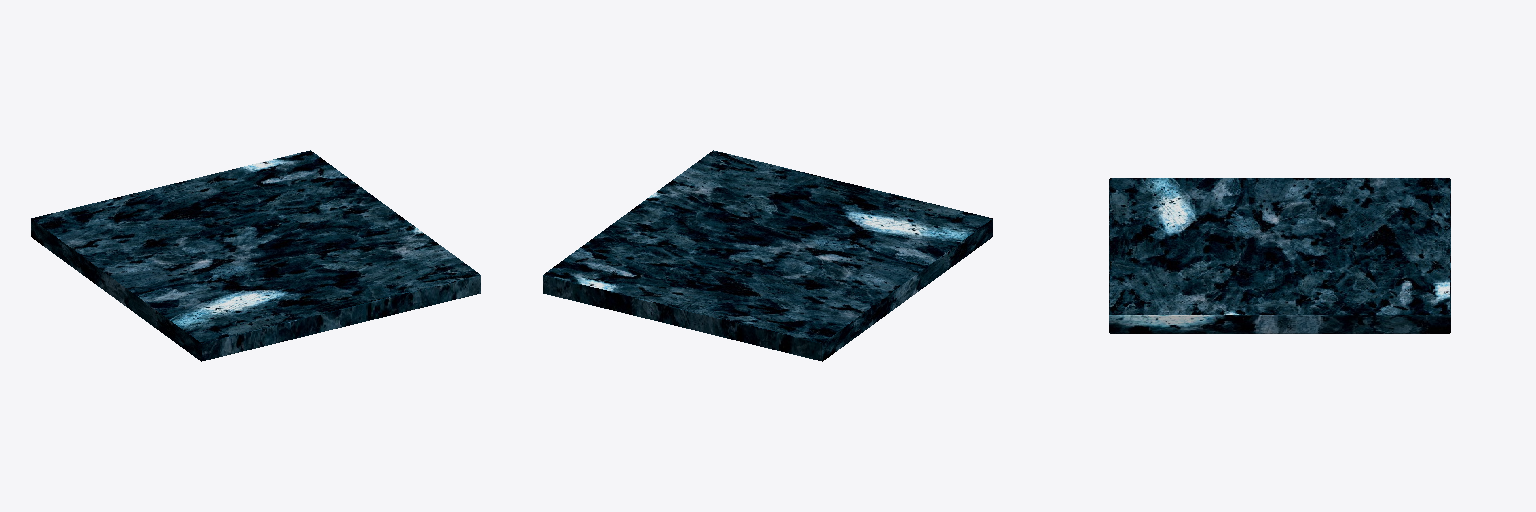
3 renders of one model, left to right at view 1: azimuth 30°, elevation 25°; view 2: azimuth 150°, elevation 25°; view 3: azimuth 270°, elevation 25°, orthographic.
Parts seen in each view (by area): view 1: model_model.074; view 2: model_model.074; view 3: model_model.074.
Boxes of the visible parts, box(x1,y1,x2,y2) form: model_model.074: box(31, 150, 480, 361); model_model.074: box(543, 150, 992, 361); model_model.074: box(1109, 178, 1450, 333).
Size of the model in its own units: 0.6 by 0.038 by 0.635.
Materials: 1 (1 with a texture image).